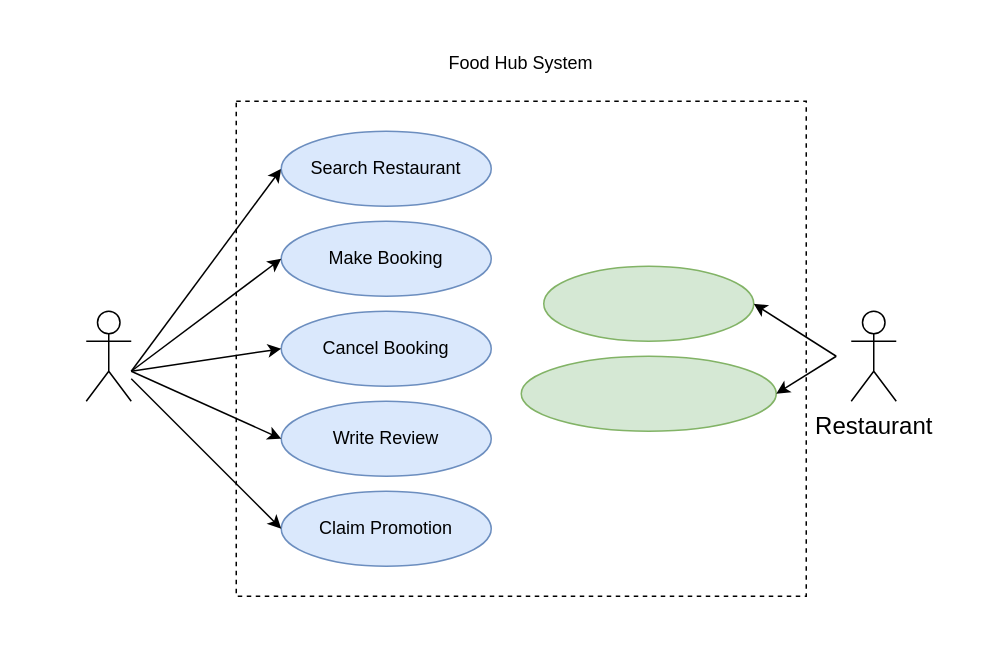
This 998x653 diagram has some shape labels left out. The box of each missing label's shape, as (x1, y1, x2, y2) in pixels:
Confirm / Reject Booking: (520, 355, 776, 431)
Customer: (85, 310, 131, 401)
Post Promotion: (542, 265, 754, 341)
